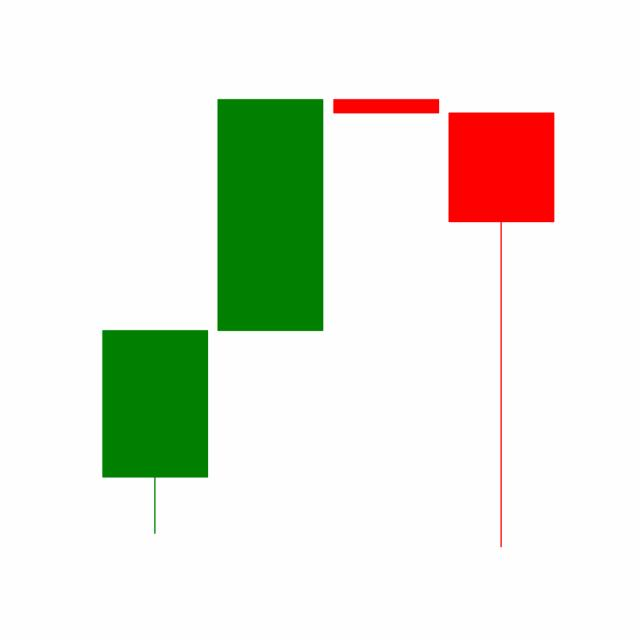Hammer: (443, 107, 559, 552)
